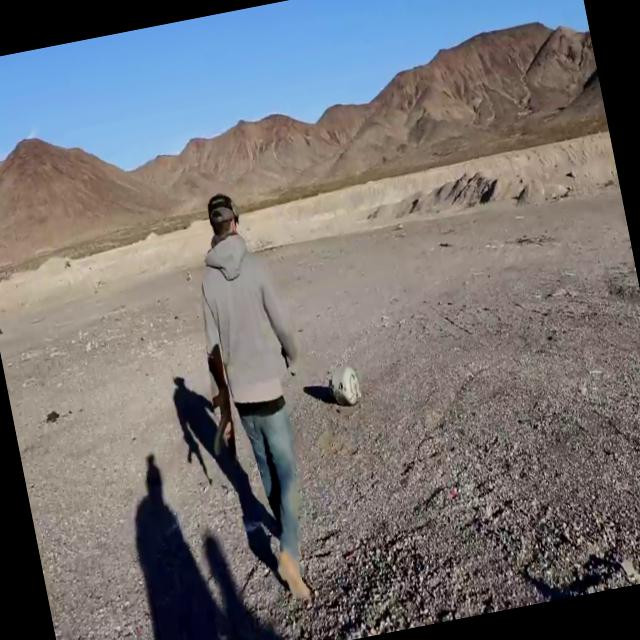long weapon: (192, 331, 250, 482)
